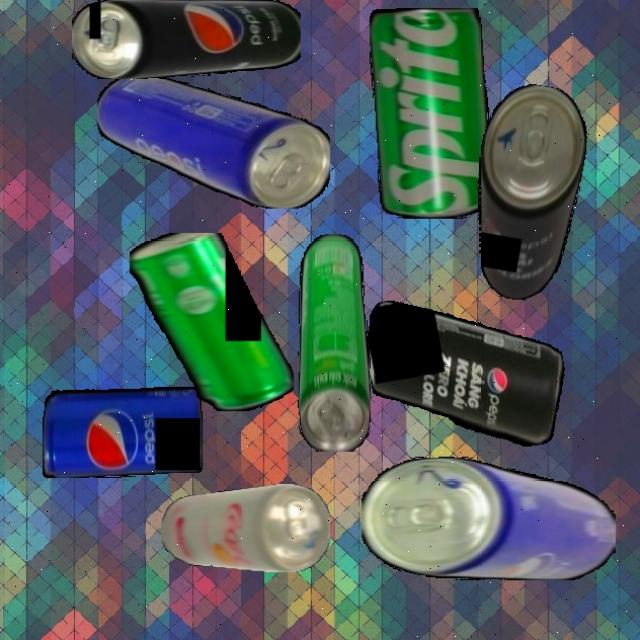debris: (359, 273, 576, 471), (457, 78, 596, 307), (96, 74, 330, 209), (362, 456, 616, 580), (128, 233, 294, 411), (369, 8, 491, 219), (72, 0, 301, 79), (296, 233, 371, 452), (160, 484, 330, 572), (41, 386, 202, 478)
